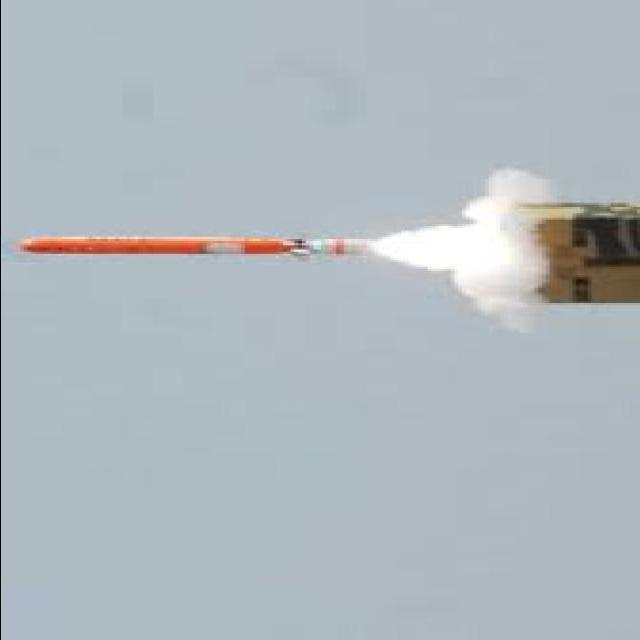Missile: (13, 234, 334, 257)
